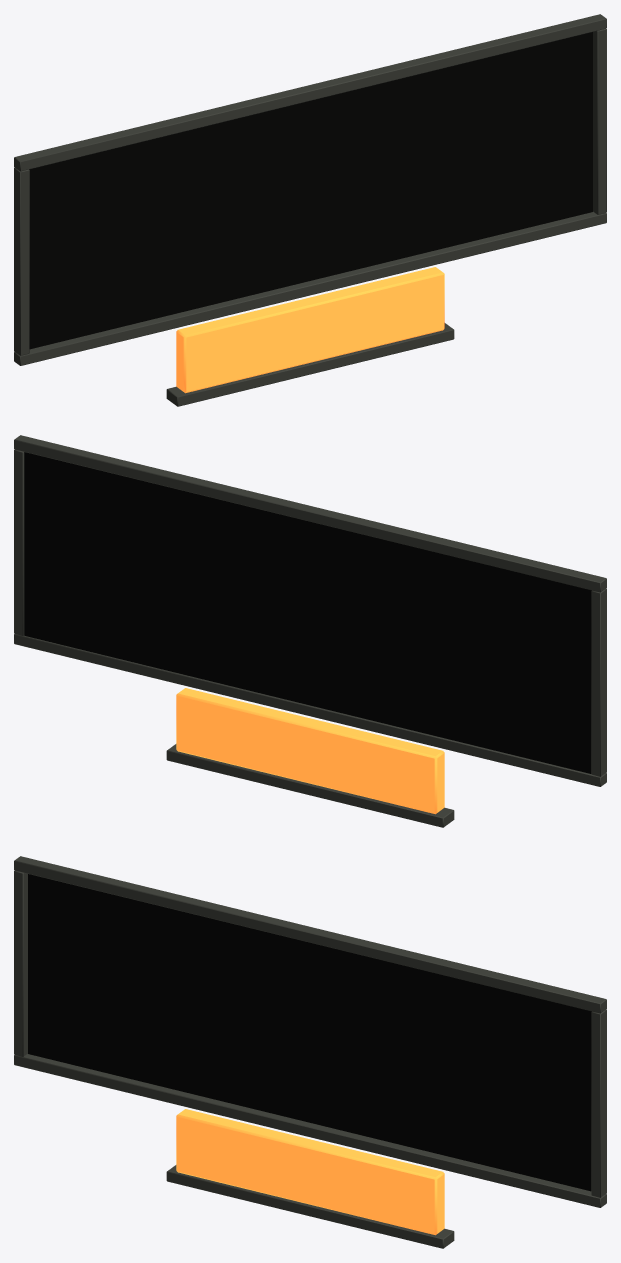
File: rest-menu-board.glb
3 renders of one model, top to bottom at view 1: azimuth 30°, elevation 25°; view 2: azimuth 150°, elevation 25°; view 3: azimuth 330°, elevation 25°, orthographic.
Visible parts, largest first — view 1: board__felt, frame__wood, lightbox__lightbox; view 2: board__felt, frame__wood, lightbox__lightbox; view 3: board__felt, frame__wood, lightbox__lightbox.
Part boxes in pixels (box(x1,y1,x2,y2)): board__felt: box(29, 32, 592, 349); frame__wood: box(14, 14, 606, 406); lightbox__lightbox: box(176, 267, 444, 393); board__felt: box(24, 452, 591, 773); frame__wood: box(14, 435, 606, 827); lightbox__lightbox: box(176, 688, 444, 814); board__felt: box(28, 874, 591, 1191); frame__wood: box(14, 856, 606, 1248); lightbox__lightbox: box(176, 1109, 444, 1235).
Bounding box in the file's own units: 3.6 × 1.65 × 0.12.
